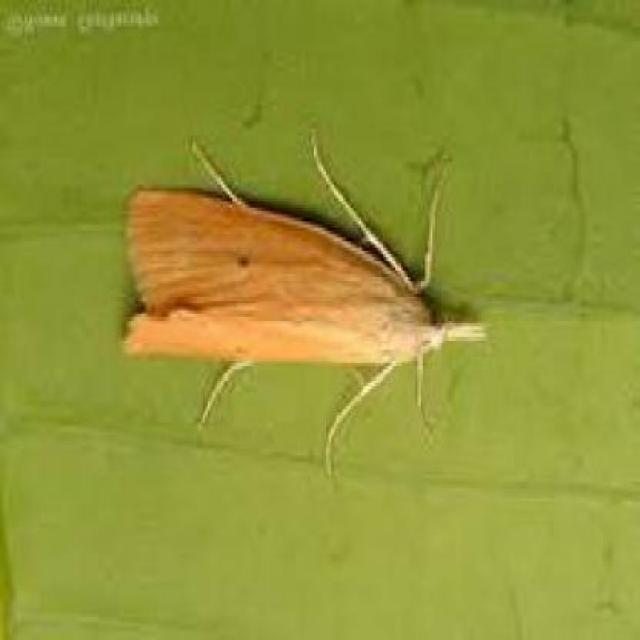stem-borer: (120, 138, 489, 472)
